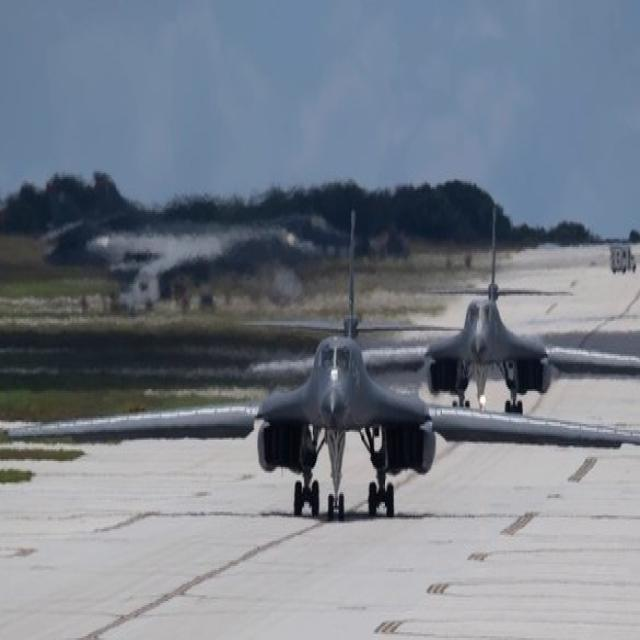B1: (15, 197, 636, 542), (426, 162, 640, 422)
